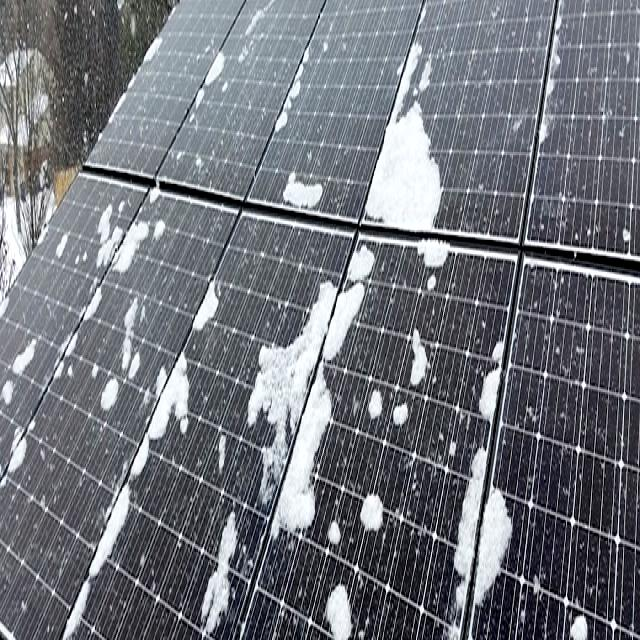panel: (251, 226, 375, 558), (360, 30, 453, 231), (456, 298, 509, 640), (49, 487, 133, 633), (98, 286, 188, 414), (368, 279, 426, 474), (98, 165, 171, 293), (326, 488, 384, 640), (130, 355, 191, 494), (0, 332, 47, 489), (52, 263, 92, 408), (534, 0, 566, 179), (203, 492, 240, 637), (274, 12, 314, 141), (186, 14, 232, 121), (185, 245, 230, 353), (546, 579, 614, 640), (276, 151, 326, 220), (52, 214, 74, 263), (216, 416, 236, 464)
